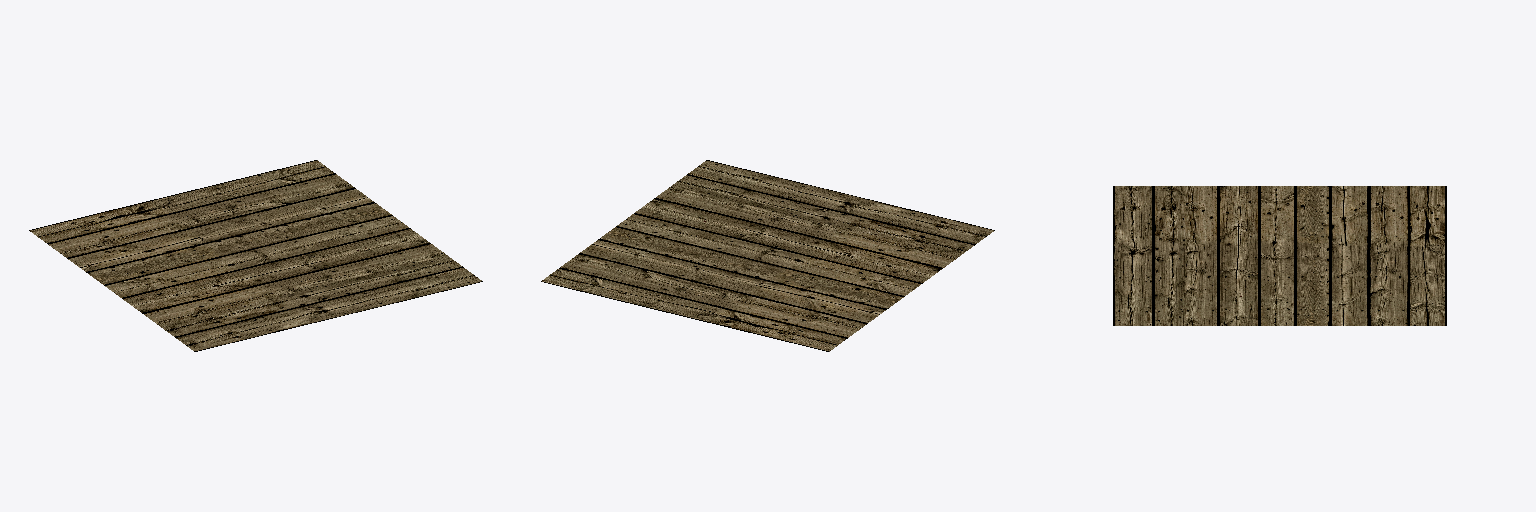
The picture shows the model from 3 angles: view 1: azimuth 30°, elevation 25°; view 2: azimuth 150°, elevation 25°; view 3: azimuth 270°, elevation 25°; orthographic projection.
Parts seen in each view (by area): view 1: Box001; view 2: Box001; view 3: Box001.
Part boxes in pixels (x1,y1,x2,y2): Box001: (29,160,482,351); Box001: (541,160,994,351); Box001: (1113,186,1446,325).
Size of the model in its own units: 39.37 by 0 by 39.37.
1 materials, 1 textured.